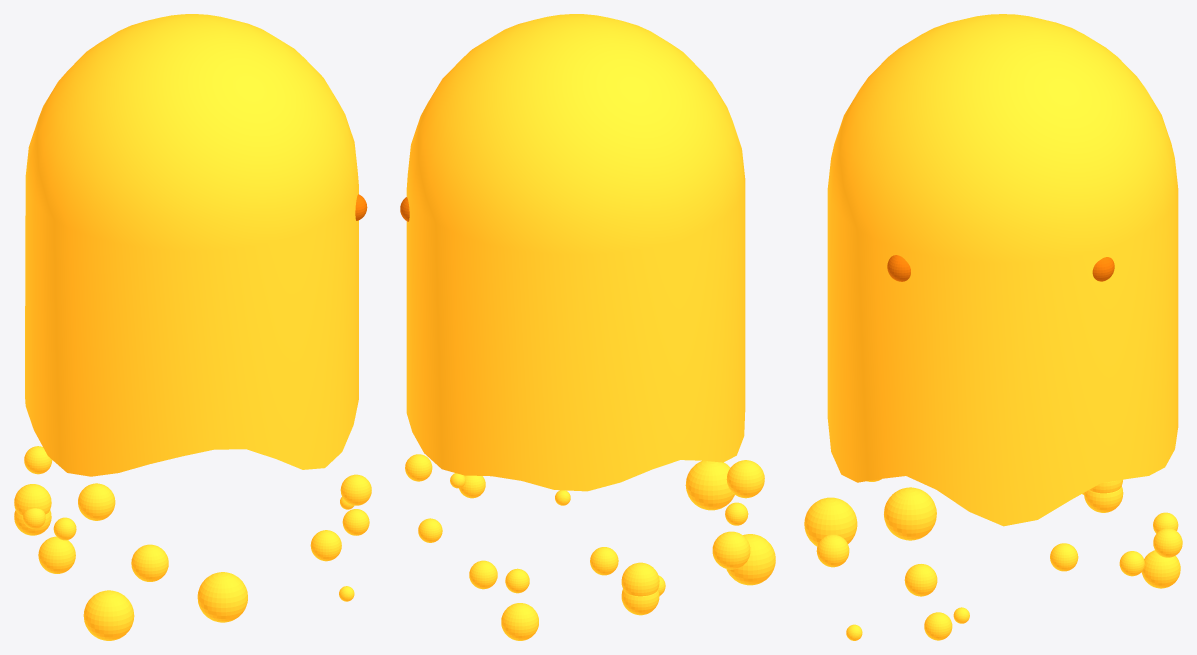
Rendered from attemptgold.fbx.
3 renders of one model, left to right at view 1: azimuth 30°, elevation 25°; view 2: azimuth 150°, elevation 25°; view 3: azimuth 270°, elevation 25°, orthographic. The views are drawn at different scales.
Visible parts, largest first — view 1: Sphere.049, Sphere.059, Sphere.069, Sphere.060, Sphere.062, Sphere.070, Sphere.052, Sphere.058, Sphere.068, Sphere.053, Sphere.071; view 2: Sphere.049, Sphere.059, Sphere.069, Sphere.070, Sphere.060, Sphere.062, Sphere.052, Sphere.055, Sphere.063, Sphere.053, Sphere.061; view 3: Sphere.049, Sphere.069, Sphere.059, Sphere.062, Sphere.068, Sphere.058, Sphere.063, Sphere.055, Sphere.061, Sphere.071.
Boxes of the visible parts, x1,y1,x2,y2 form: Sphere.049: (25, 14, 358, 476); Sphere.059: (197, 572, 247, 622); Sphere.069: (83, 590, 134, 640); Sphere.060: (131, 544, 168, 581); Sphere.062: (78, 483, 115, 520); Sphere.070: (38, 536, 75, 573); Sphere.052: (14, 484, 51, 515); Sphere.058: (340, 474, 371, 505); Sphere.068: (310, 530, 341, 561); Sphere.053: (24, 446, 52, 474); Sphere.071: (342, 509, 369, 535); Sphere.049: (406, 14, 745, 491); Sphere.059: (685, 460, 734, 510); Sphere.069: (726, 534, 775, 585); Sphere.070: (712, 531, 750, 569); Sphere.060: (726, 460, 764, 498); Sphere.062: (501, 603, 538, 640); Sphere.052: (621, 562, 659, 596); Sphere.055: (621, 589, 659, 615); Sphere.063: (469, 560, 497, 589); Sphere.053: (590, 547, 618, 575); Sphere.061: (405, 454, 432, 481); Sphere.049: (827, 14, 1178, 526); Sphere.069: (884, 487, 936, 540); Sphere.059: (804, 497, 857, 546); Sphere.062: (1141, 550, 1180, 588); Sphere.068: (816, 534, 849, 567); Sphere.058: (904, 564, 937, 596); Sphere.063: (1153, 528, 1182, 557); Sphere.055: (1084, 486, 1123, 512); Sphere.061: (1050, 543, 1078, 571); Sphere.071: (924, 612, 952, 640).
Size of the model in its own units: 313 by 535 by 320.
